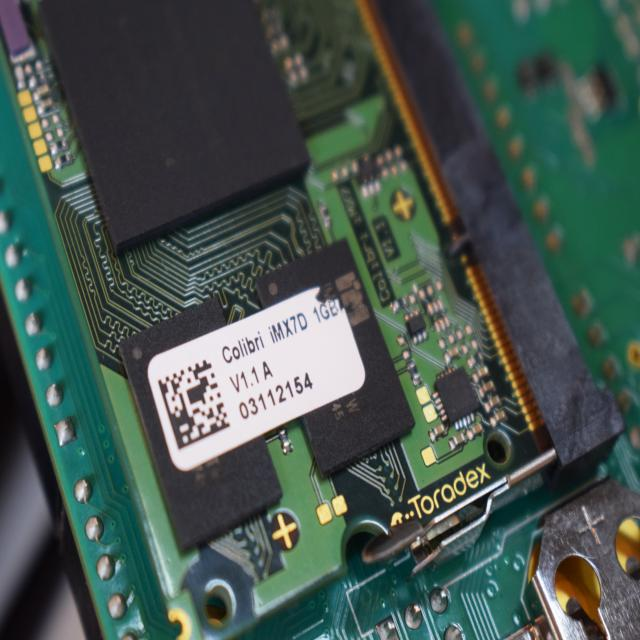som: (1, 1, 622, 640)
